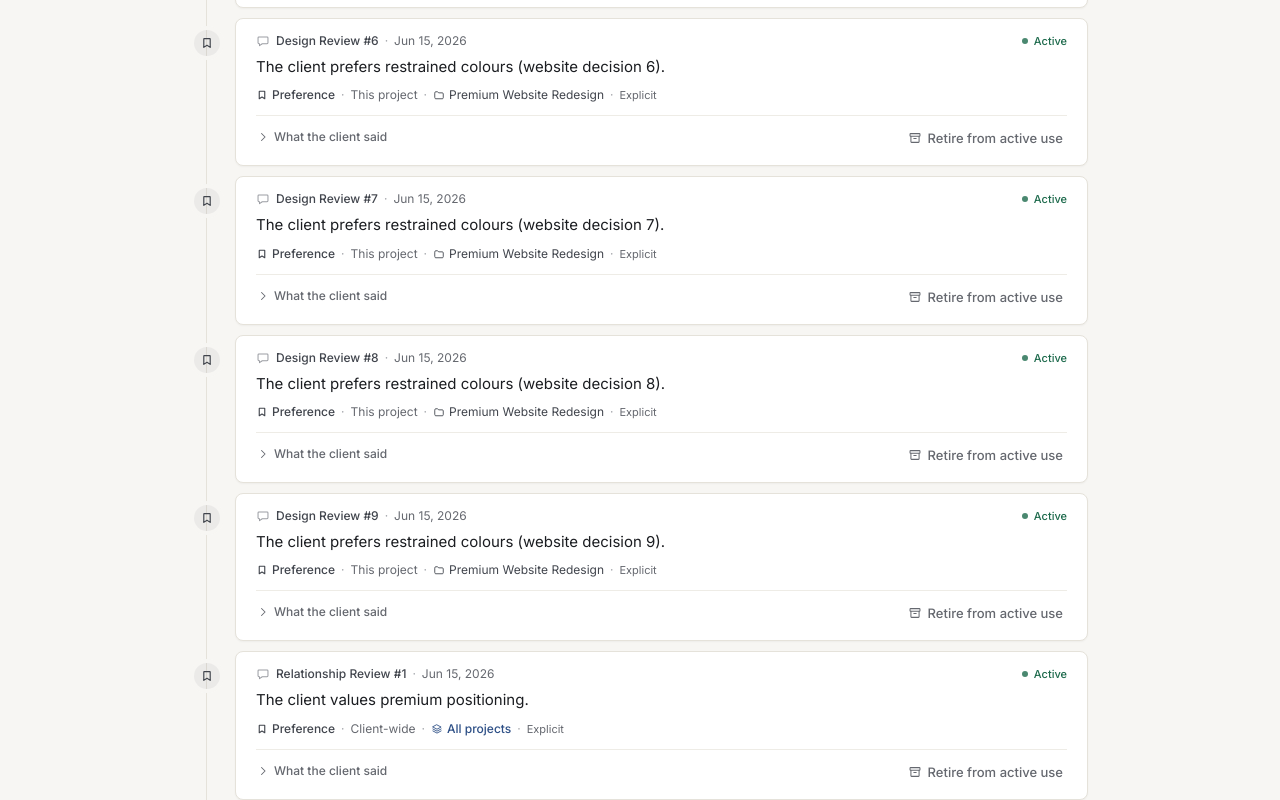
Test: MemoryTimeline — retiring a client-wide memory › says that retiring it affects every project
The width and height of the screenshot is (1280, 800).
(page scrolled)
Click the 5th button "Retire from active use" at [985, 772], box [898,756,1073,788]
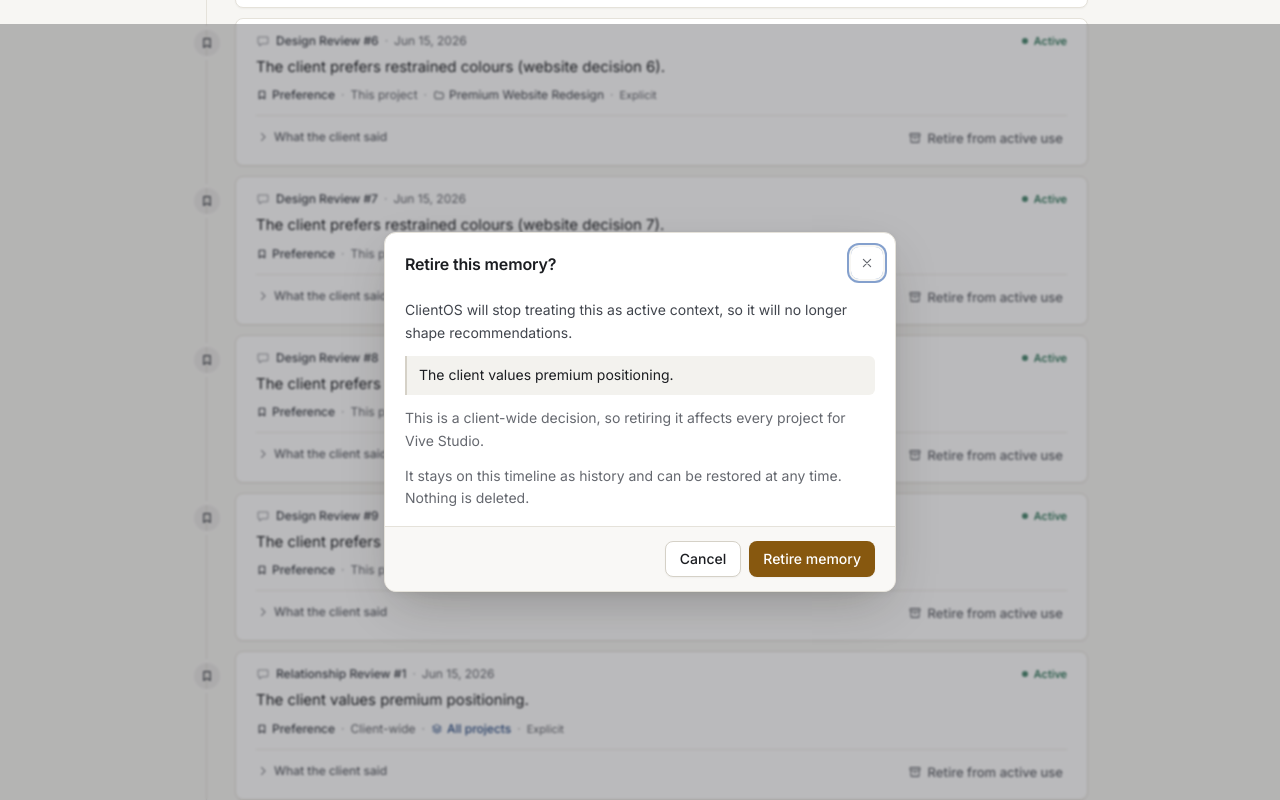
Expected: the dialog shows "affects every project", [405,409,846,426]
